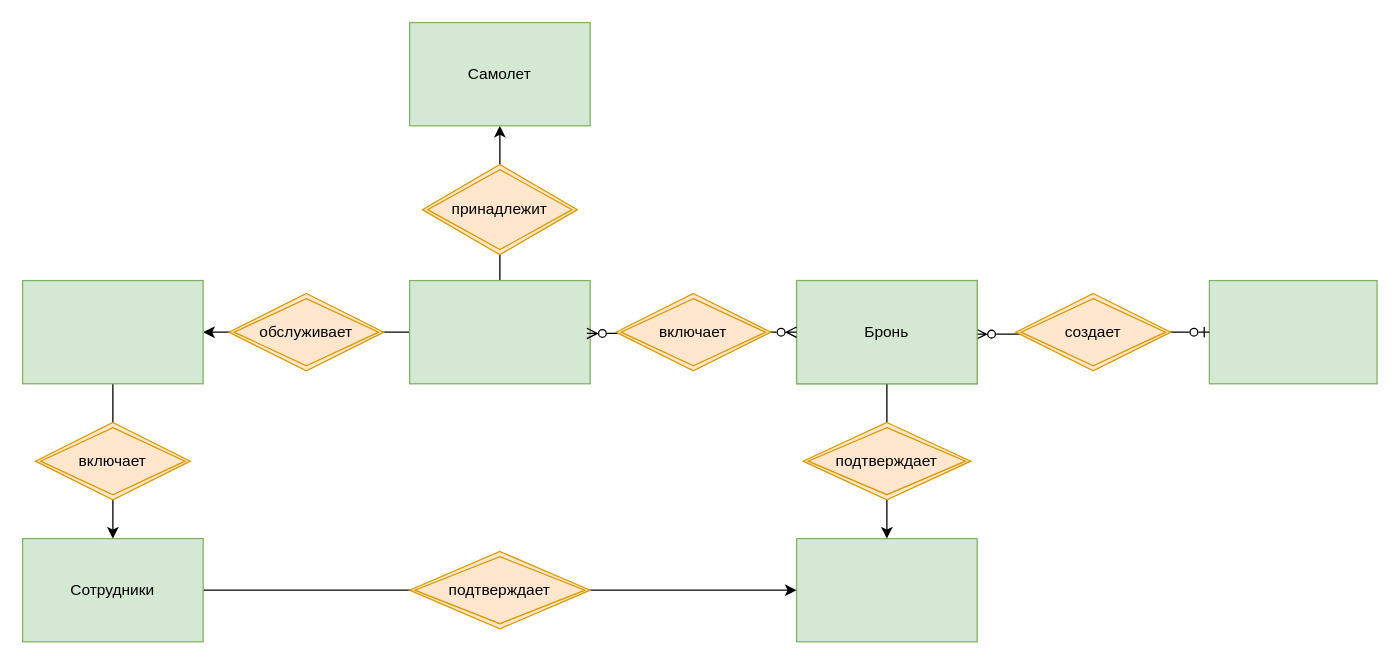
Some shapes in this 1400 by 664 pixel diagram are drawn without their labels. Here are the shapes that lost their labels. From the top down, the centre of each, then its label:
At (x=112, y=331): "Экипаж".
At (x=499, y=331): "Рейс".
At (x=1292, y=331): "Пассажир".
At (x=886, y=589): "Регистрация".
